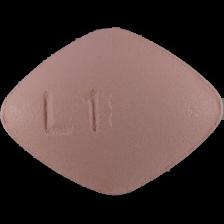63304-191: (0, 0, 224, 224)
